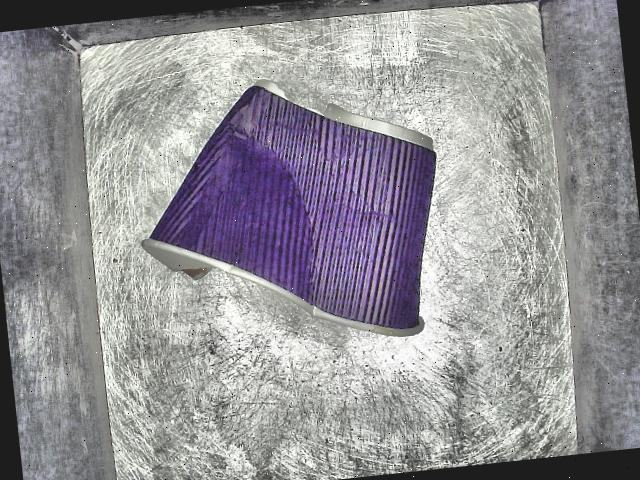Paper: (120, 50, 478, 366)
